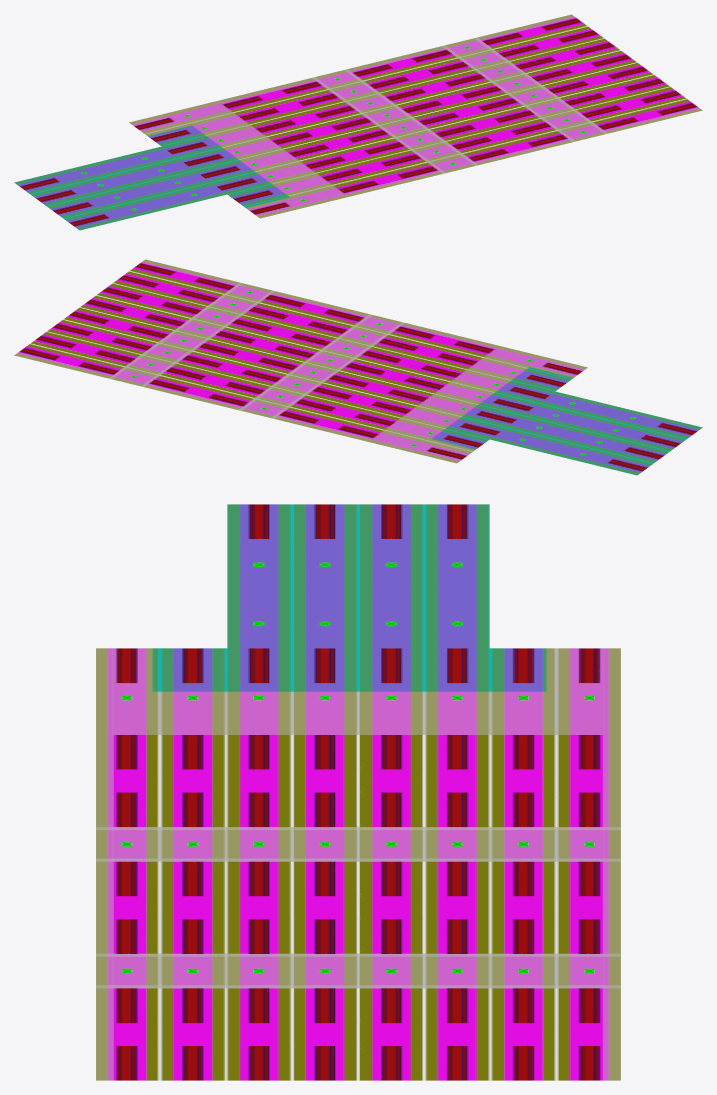
Rendered from LevelDesign_Mesh.fbx.
3 views of the same model, one above another, from view 1: azimuth 30°, elevation 25°; view 2: azimuth 150°, elevation 25°; view 3: azimuth 270°, elevation 25° (orthographic). The views are drawn at different scales.
Parts seen in each view (by area): view 1: LevelDesign_Mesh; view 2: LevelDesign_Mesh; view 3: LevelDesign_Mesh.
Boxes of the visible parts, left/top/right/bottom form: LevelDesign_Mesh: left=14, top=14, right=702, bottom=230; LevelDesign_Mesh: left=14, top=259, right=702, bottom=475; LevelDesign_Mesh: left=96, top=504, right=620, bottom=1080.
Bounding box in the file's own units: 40000 × 0 × 15400.
Materials: 1 (1 with a texture image).
